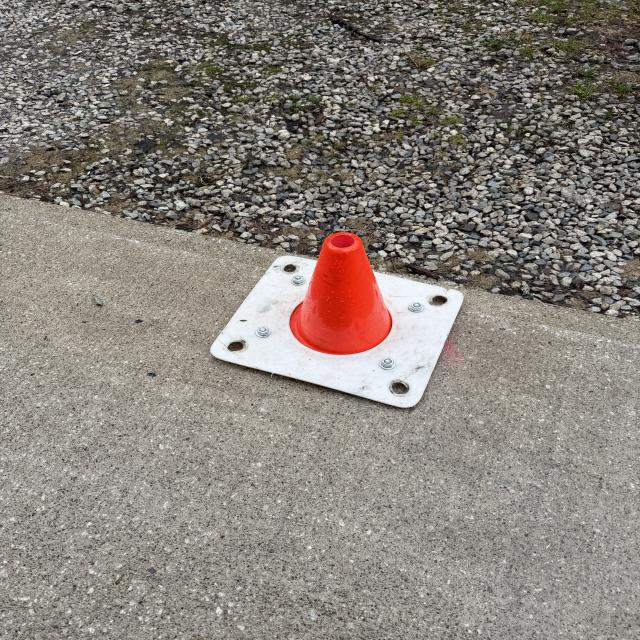Traffic Cone: (208, 233, 466, 410)
